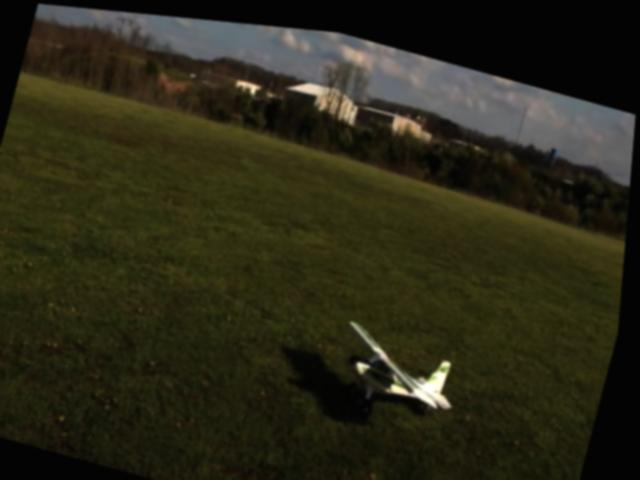uav: (335, 304, 476, 414)
